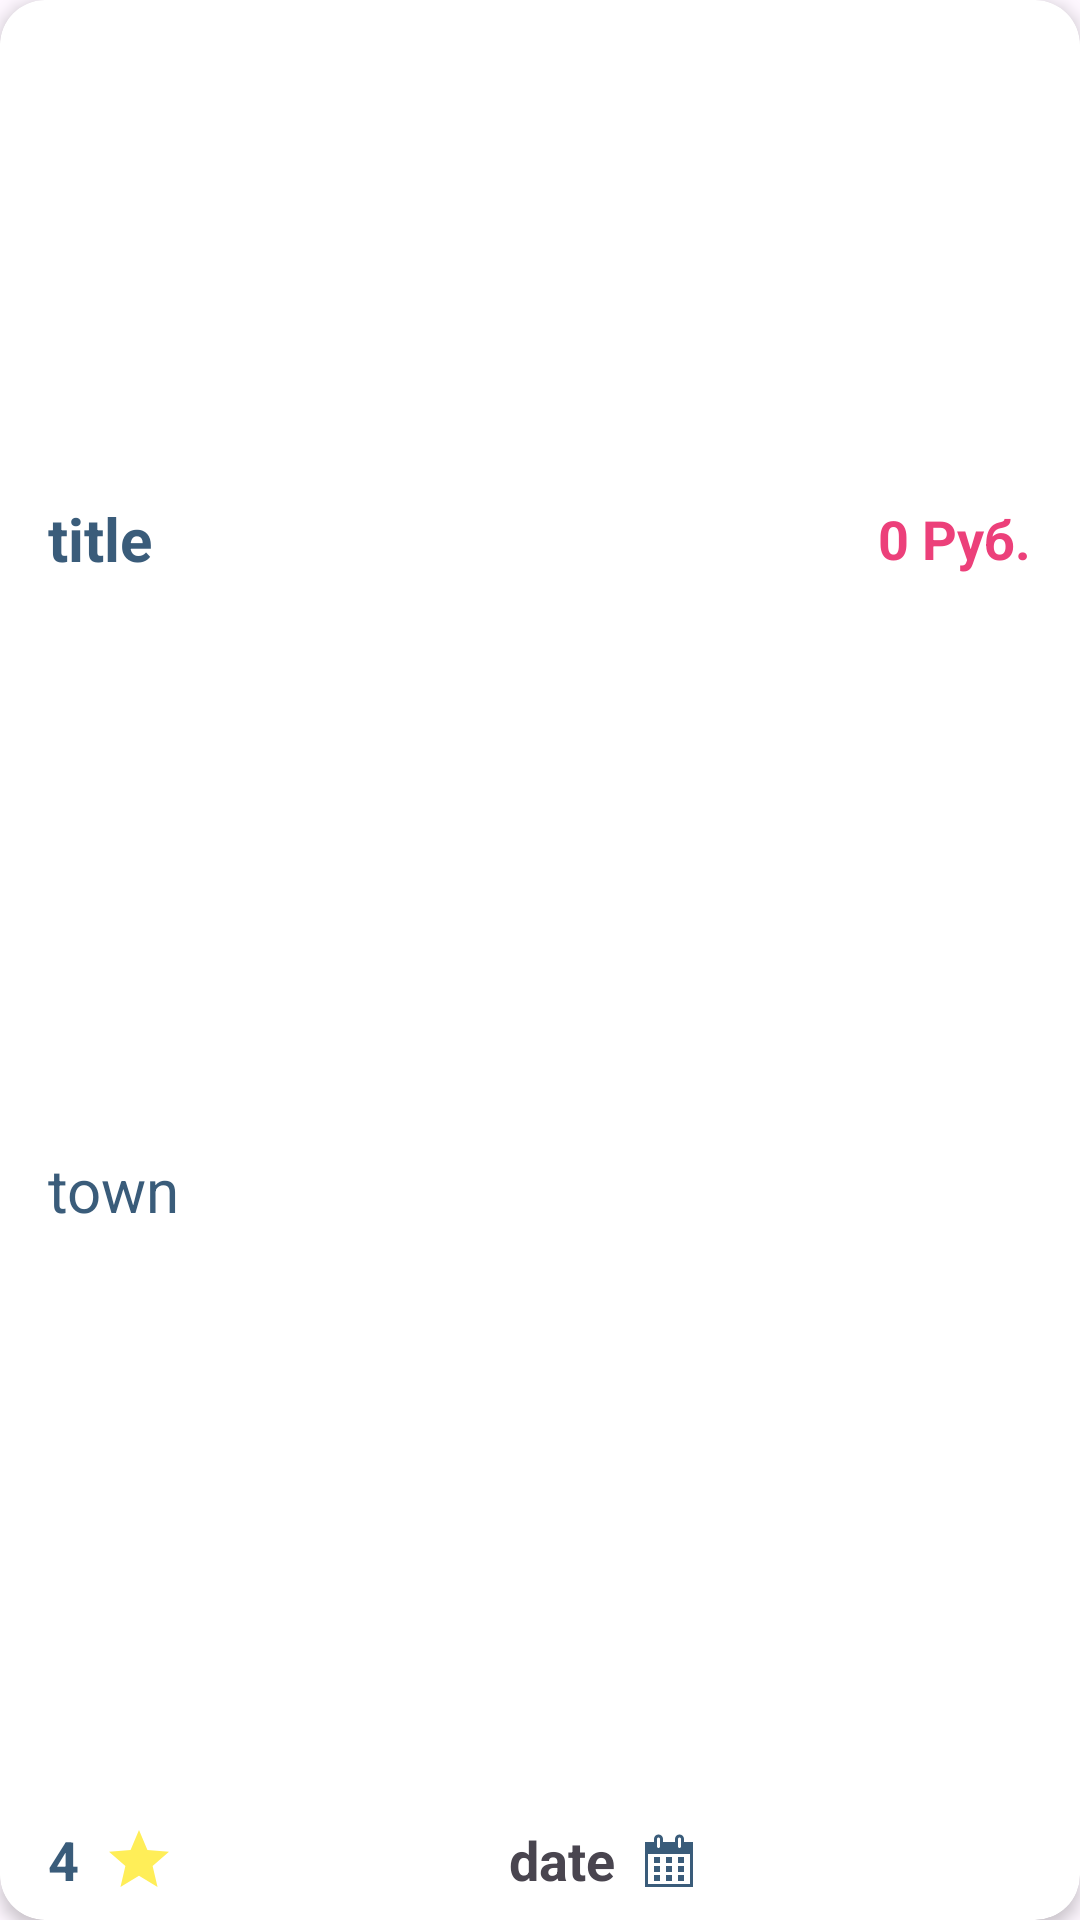

Locate icon controls on the screen. Image size 1080*1920, boxes as Rect(x1, y1, x2, y2).
calendar: Rect(645, 1834, 693, 1887)
star: Rect(109, 1830, 169, 1887)
